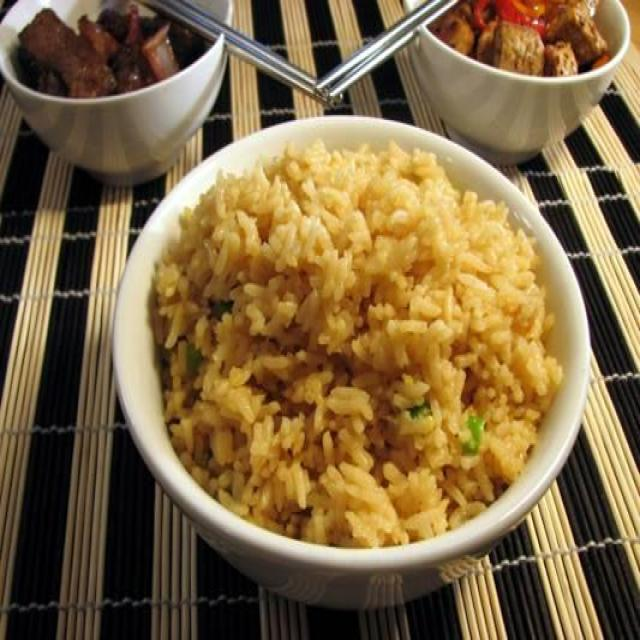Nasi Goreng: (149, 134, 563, 549)
